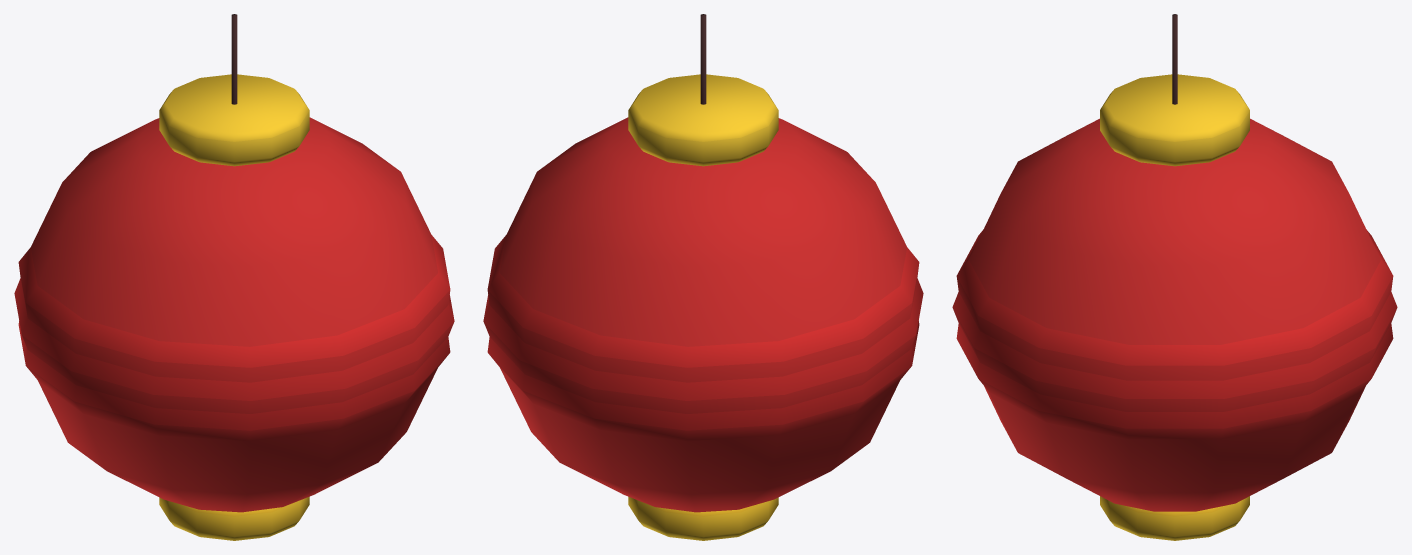
Rendered from Lantern.FBX.
3 views of the same model, side by side, from view 1: azimuth 30°, elevation 25°; view 2: azimuth 150°, elevation 25°; view 3: azimuth 270°, elevation 25° (orthographic).
Parts seen in each view (by area): view 1: Lantern; view 2: Lantern; view 3: Lantern.
Part boxes in pixels (x1,y1,x2,y2): Lantern: [14, 14, 454, 540]; Lantern: [483, 14, 923, 540]; Lantern: [952, 14, 1397, 540].
Size of the model in its own units: 40.42 by 51 by 41.46.
